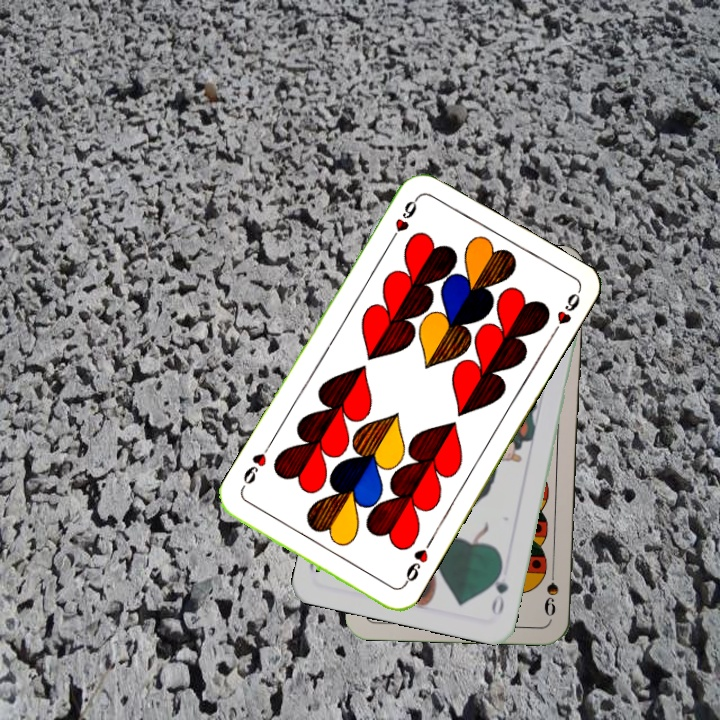GO: (487, 559, 511, 618)
H9: (397, 538, 434, 591), (385, 193, 421, 247)
S9: (540, 560, 561, 619)
